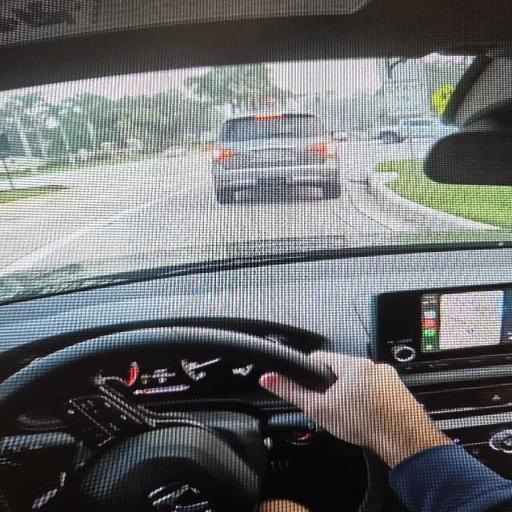car: (0, 0, 511, 511), (212, 113, 340, 203), (377, 118, 455, 142)
lane: (0, 141, 470, 271)
person: (260, 352, 511, 511)
